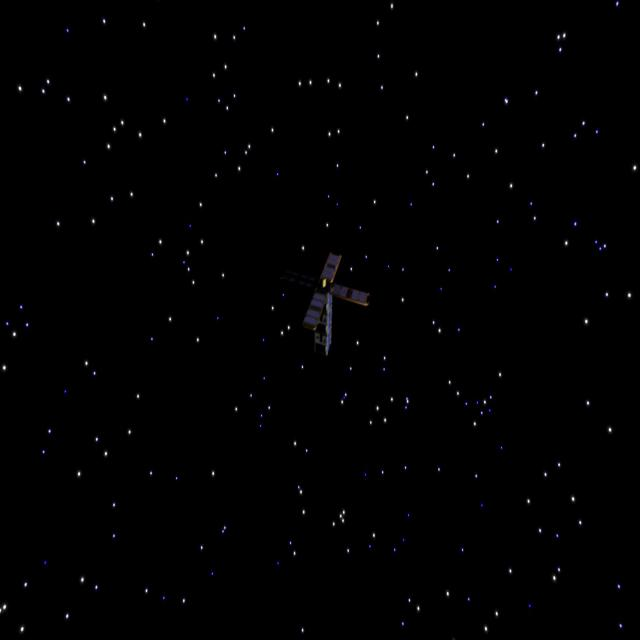satellite: (294, 253, 376, 355)
